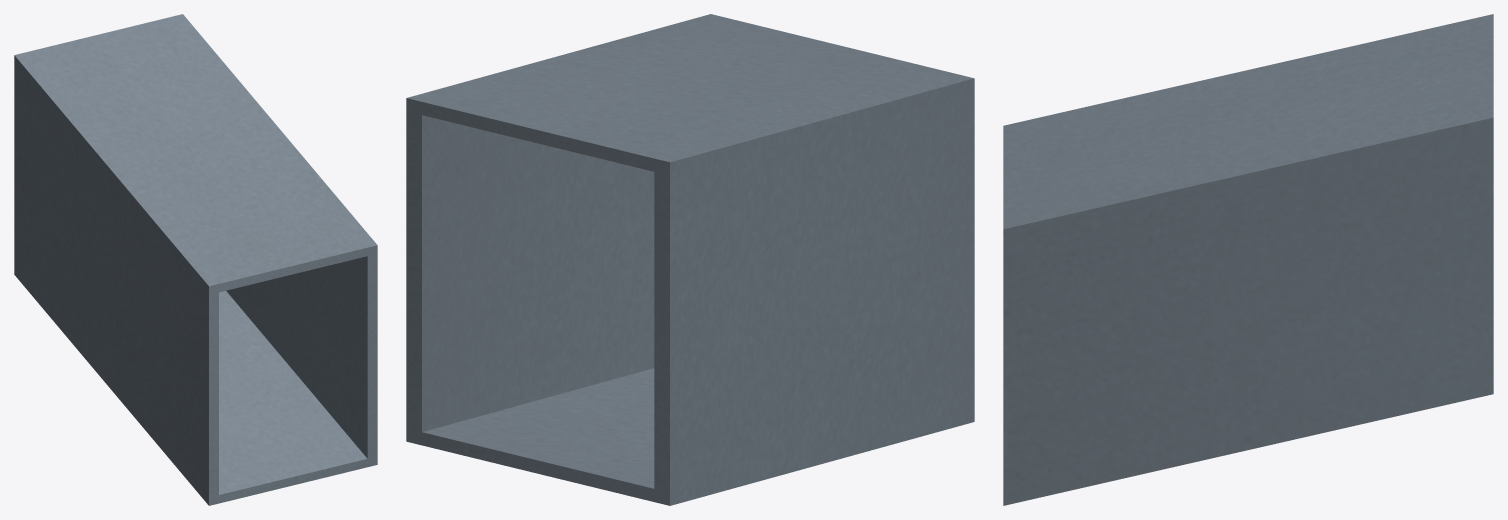
File: hvac_uphill.fbx
The picture shows the model from 3 angles, left to right: view 1: azimuth 30°, elevation 25°; view 2: azimuth 150°, elevation 25°; view 3: azimuth 270°, elevation 25°; orthographic projection. The views are drawn at different scales.
Parts seen in each view (by area): view 1: hvac_uphill; view 2: hvac_uphill; view 3: hvac_uphill.
Boxes of the visible parts, <box> form: hvac_uphill: <box>14,14,377,505</box>; hvac_uphill: <box>406,14,974,505</box>; hvac_uphill: <box>1003,14,1493,505</box>.
Size of the model in its own units: 200 by 350 by 400.
1 material, 1 textured.
